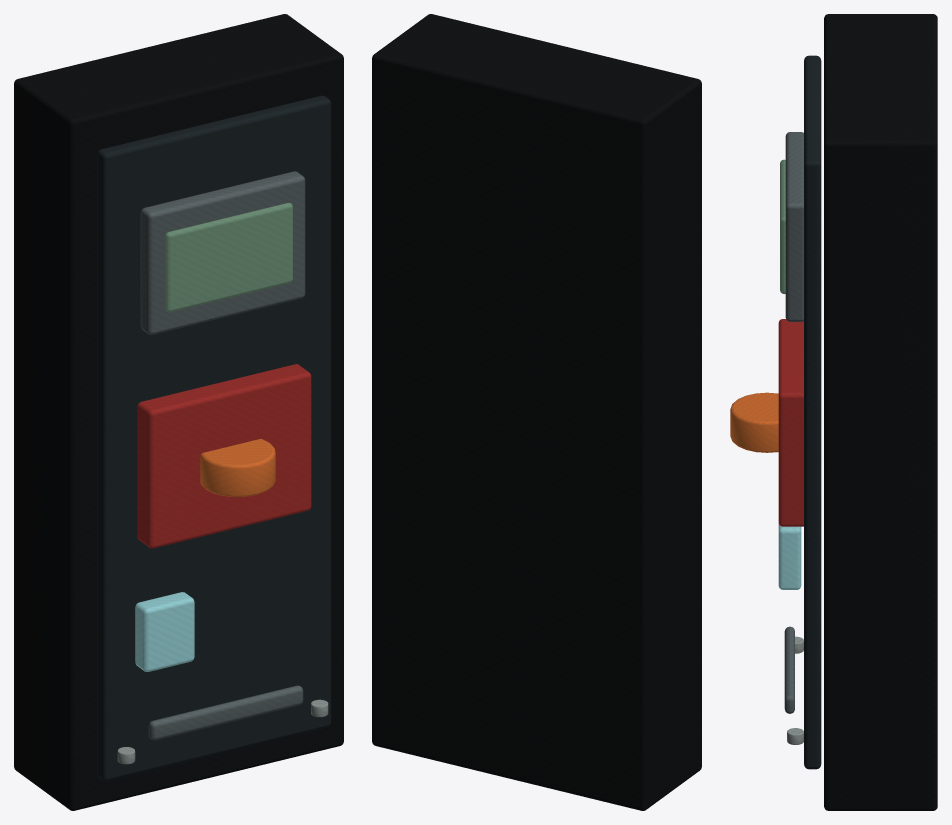
Rendered from BlastDoorControl.glb.
3 renders of one model, left to right at view 1: azimuth 30°, elevation 25°; view 2: azimuth 150°, elevation 25°; view 3: azimuth 270°, elevation 25°, orthographic. The views are drawn at different scales.
Visible parts, largest first — view 1: BlastDoorControl_Mesh; view 2: BlastDoorControl_Mesh; view 3: BlastDoorControl_Mesh.
Part boxes in pixels (x1,y1,x2,y2): BlastDoorControl_Mesh: (14, 14, 343, 810); BlastDoorControl_Mesh: (372, 14, 701, 810); BlastDoorControl_Mesh: (730, 14, 937, 810).
Size of the model in its own units: 0.54 by 1.3 by 0.365.
8 materials, 8 textured.
